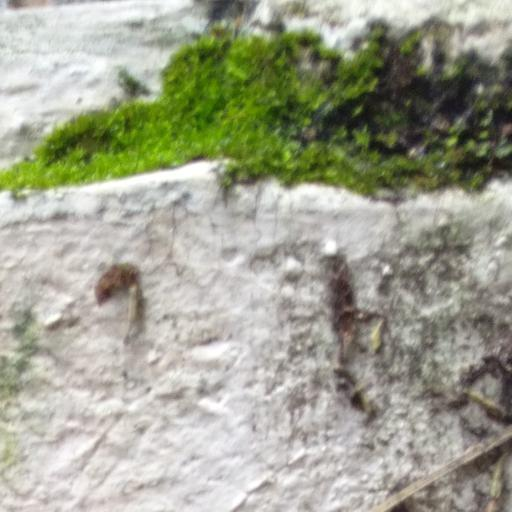algae: (0, 0, 511, 278)
